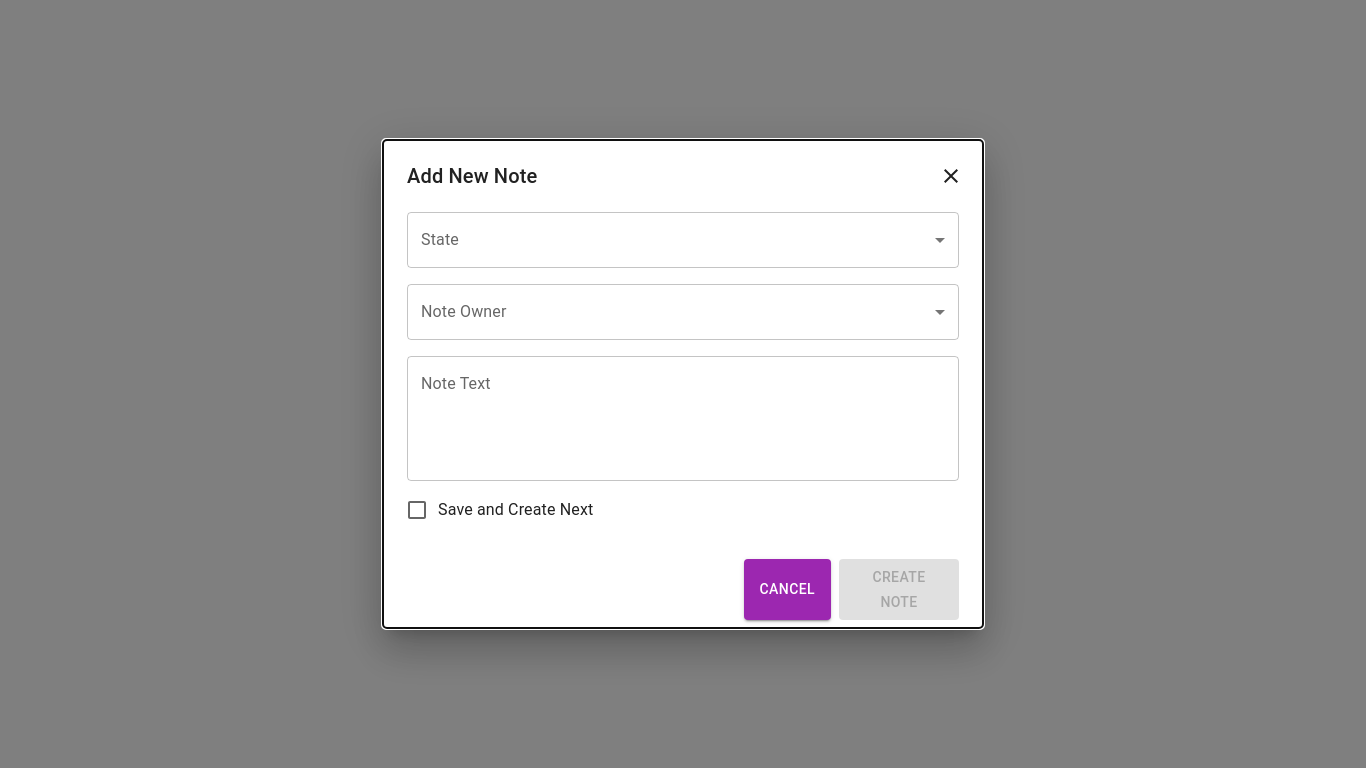
Test: AddNewNoteModal › Form validation › enables create button when form is valid
Fill required fields
In the text box labelled "Note Text": (683, 418) 421,372 -> 945,464, type "Test note"
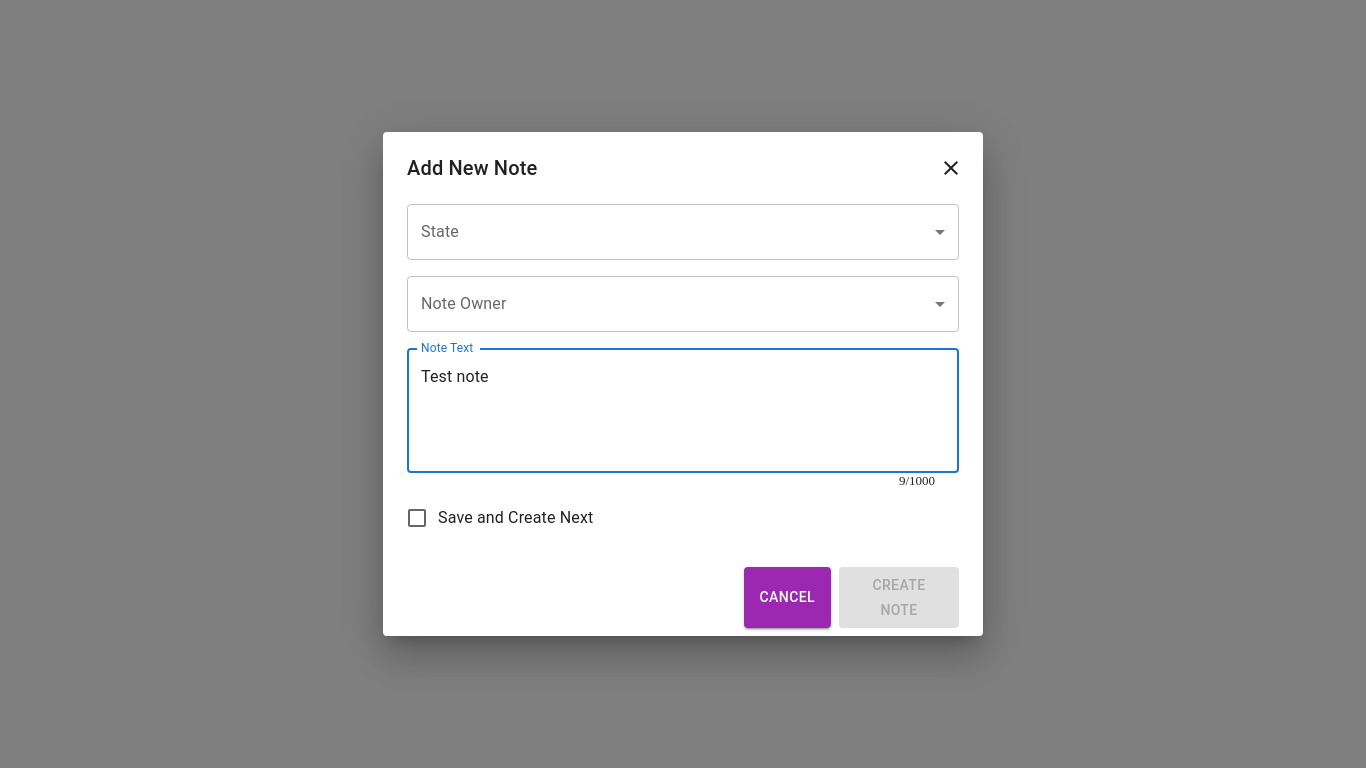
Click the dropdown named "Note Owner" next to "Note Owner": (683, 304) 407,276 -> 959,332
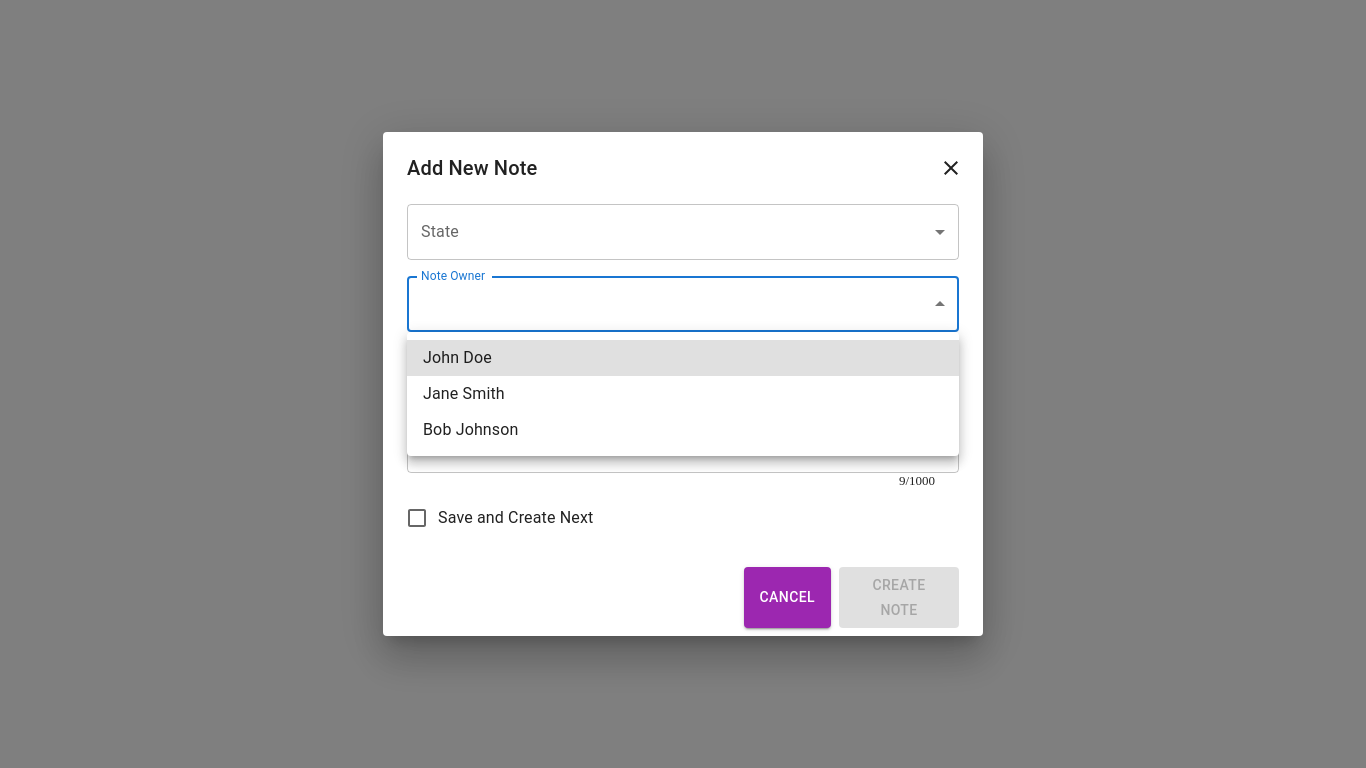
expect the option "John Doe" is shown: met
Click the option "John Doe": (457, 358) 407,340 -> 959,376
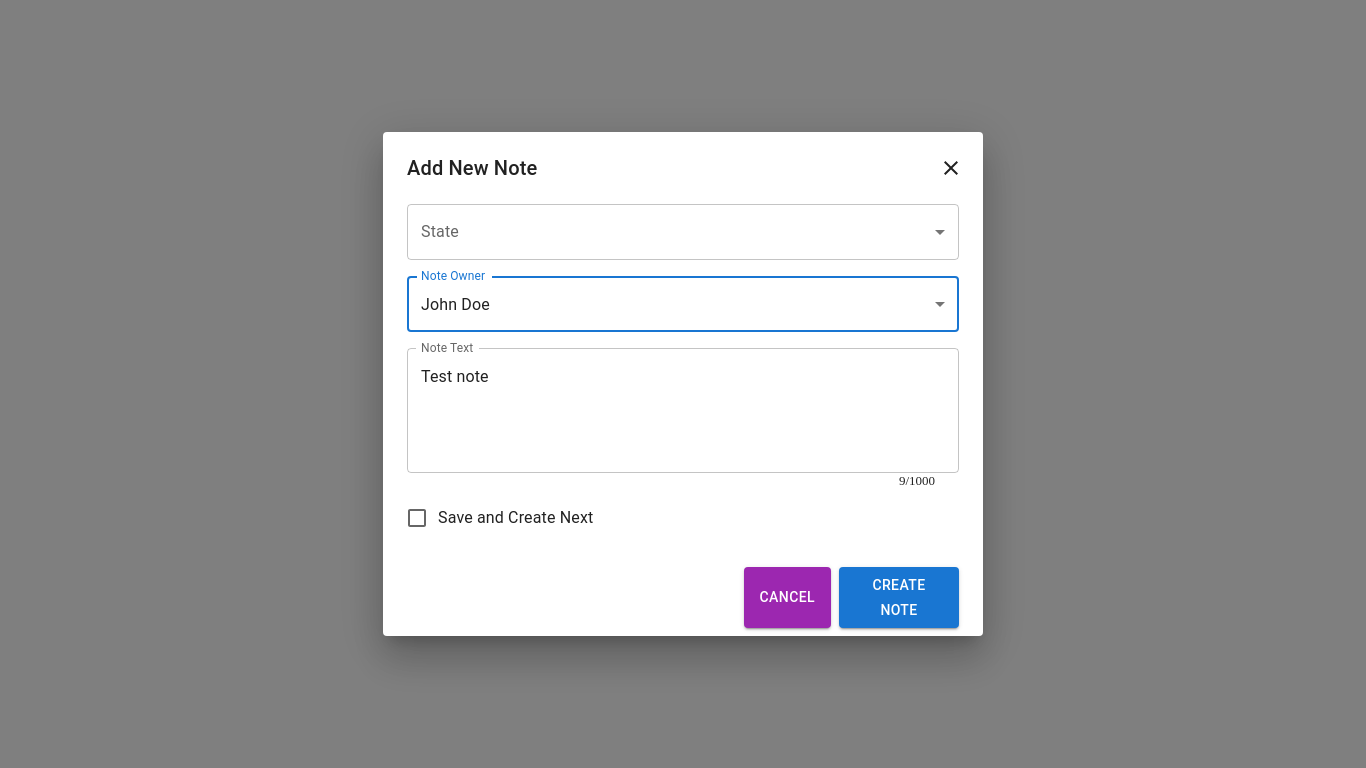
expect the button "Create Note" is enabled: met, box 839,567 -> 959,628
